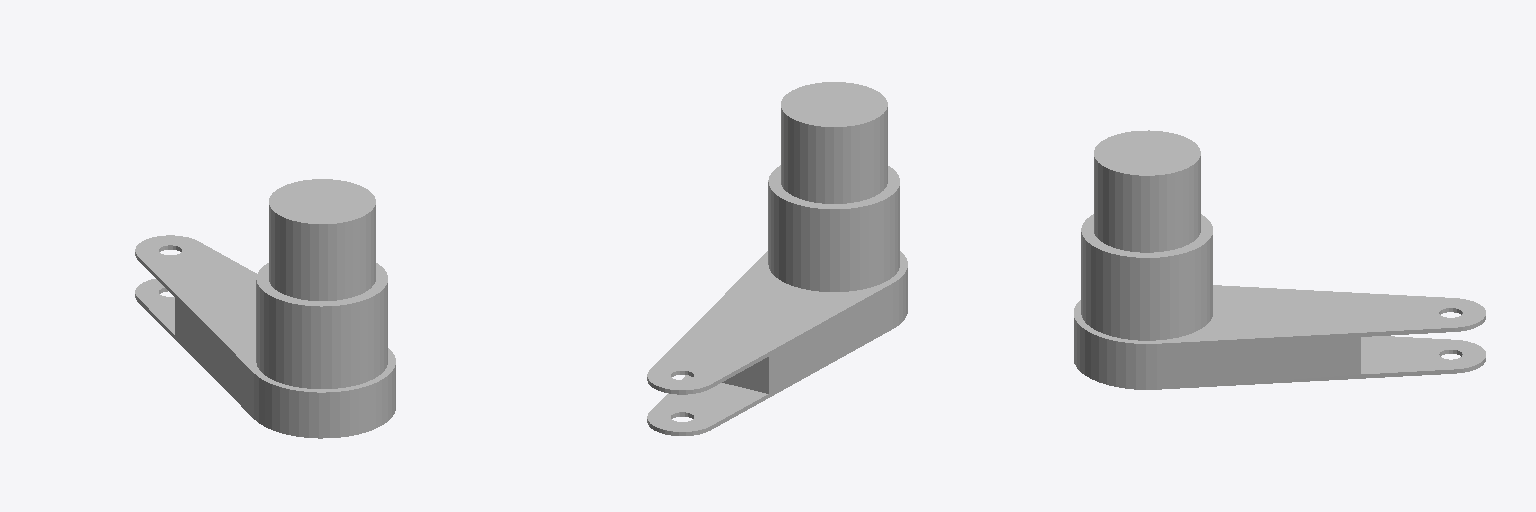
The model's file is thigh_mirror_franki.obj.
3 renders of one model, left to right at view 1: azimuth 30°, elevation 25°; view 2: azimuth 150°, elevation 25°; view 3: azimuth 270°, elevation 25°, orthographic.
Visible parts, largest first — view 1: thigh_mirror; view 2: thigh_mirror; view 3: thigh_mirror.
Part boxes in pixels (left/top/right/bottom): thigh_mirror: left=135, top=179, right=395, bottom=438; thigh_mirror: left=647, top=82, right=907, bottom=435; thigh_mirror: left=1074, top=130, right=1485, bottom=389.
Size of the model in its own units: 0.125 by 0.1925 by 0.35.